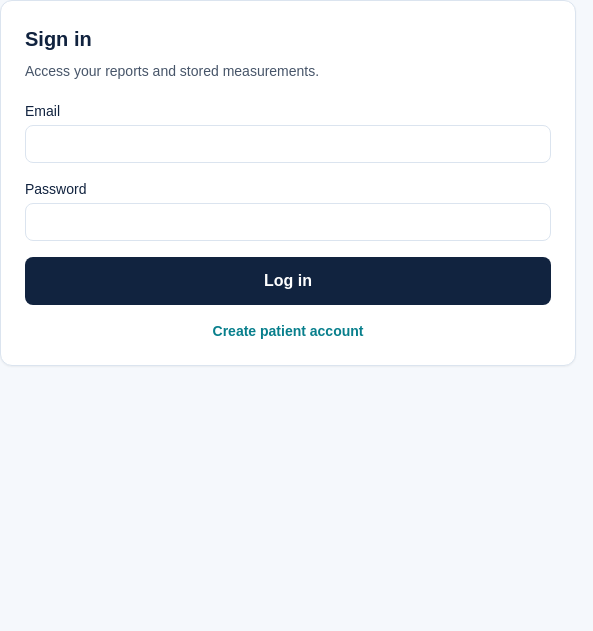
Test: rejects weak passwords and permits return to sign in
The width and height of the screenshot is (593, 631).
Click the button "Create patient account" at (288, 331), box [25,321,551,341]
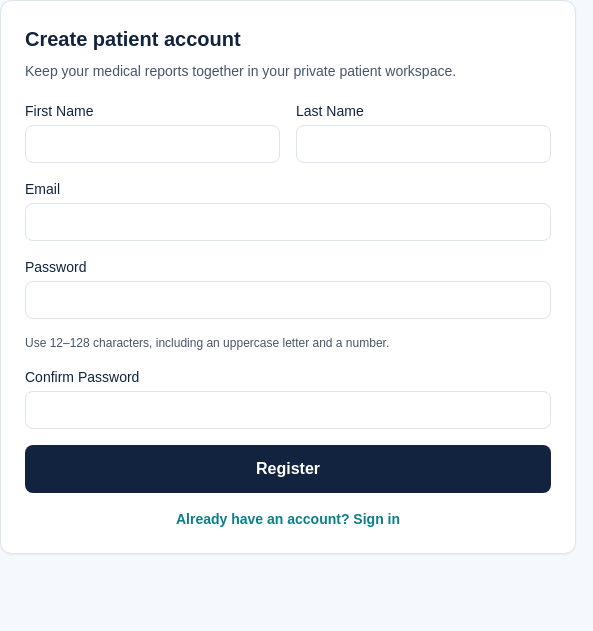
Type "Synthetic" into the field labelled "First Name" at (152, 144), box [25,125,280,163]
Type "Patient" into the field labelled "Last Name" at (424, 144), box [296,125,551,163]
Type "synthetic@test.example" into the field labelled "Email" at (288, 222), box [25,203,551,241]
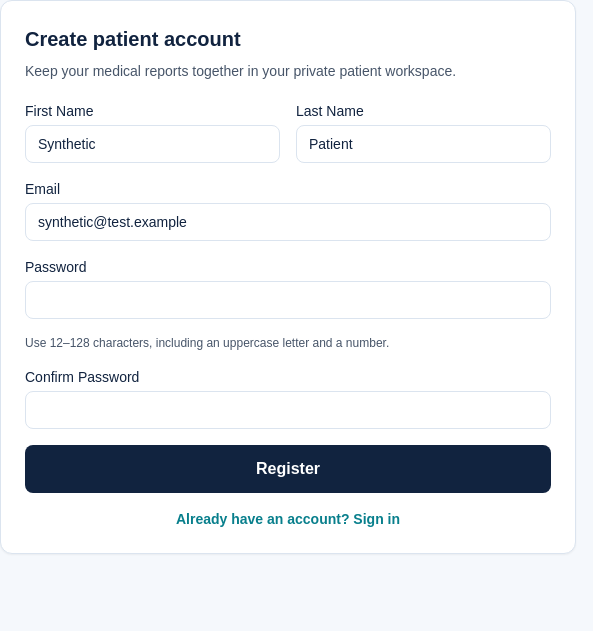
Type "weak" into the password field labelled "Password" at (288, 300), box [25,281,551,319]
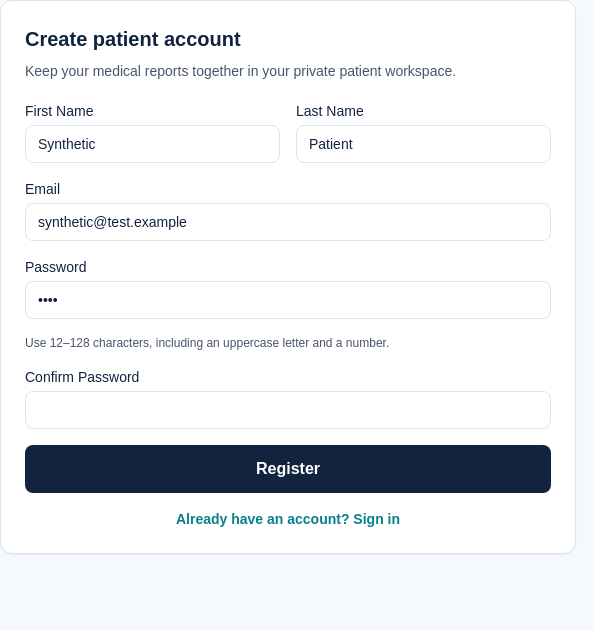
Type "weak" into the password field labelled "Confirm Password" at (288, 410), box [25,391,551,429]
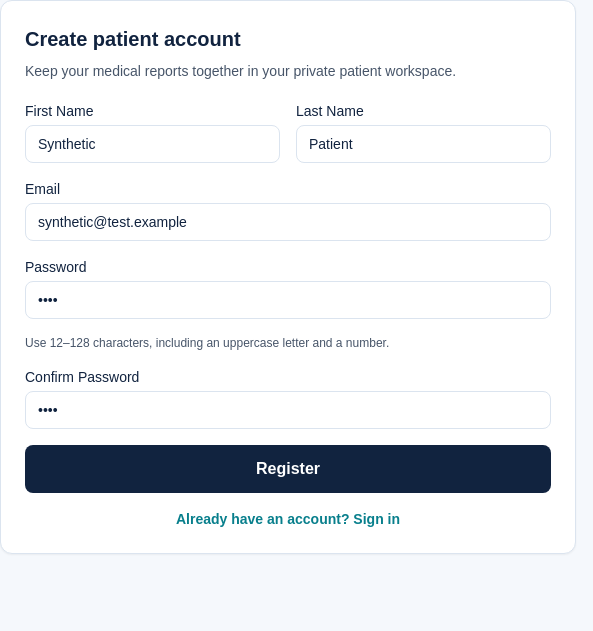
Click the button "Register" at (288, 469), box [25,445,551,493]
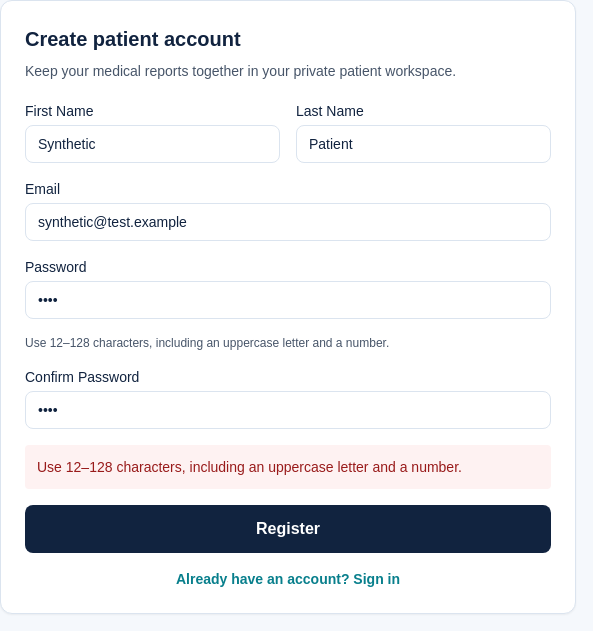
Expected: the message shows "12–128", [37,459,462,475]
Click the button "Already have an account? Sign in" at (288, 579), box [25,569,551,589]
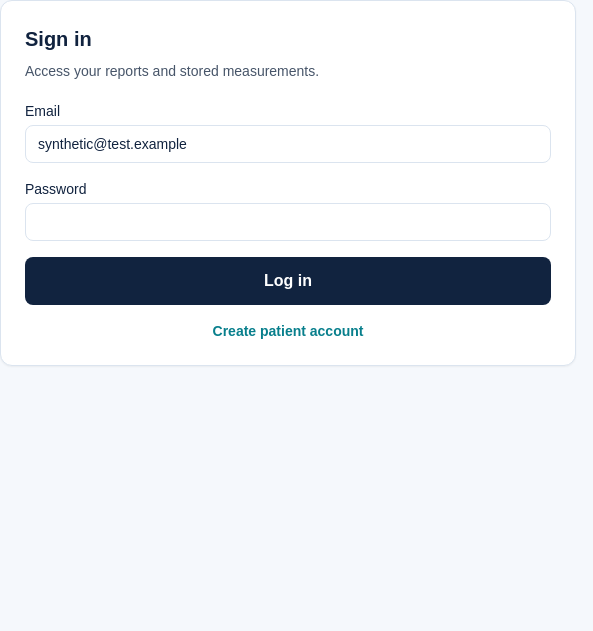
Expected: the button "Log in" is shown, [25,257,551,305]
